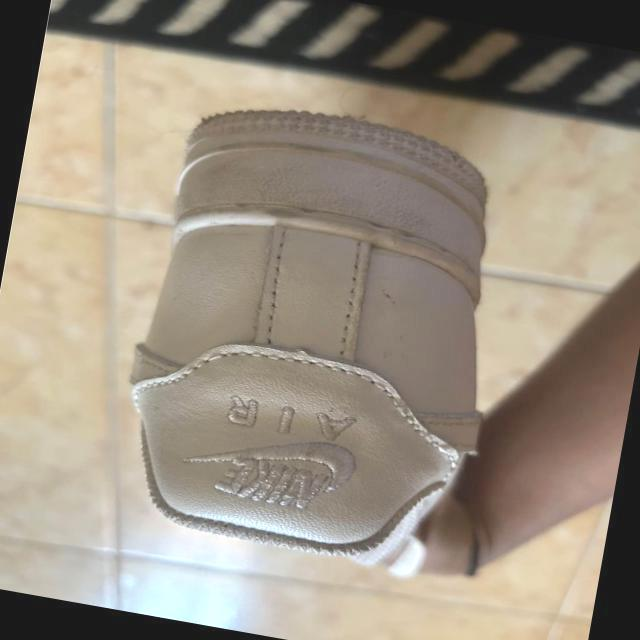nike_fake_airforce: (105, 88, 532, 586)
